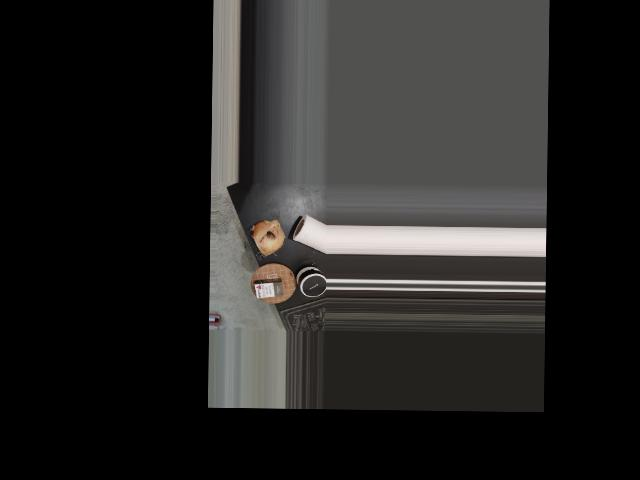onion: (249, 217, 286, 257)
